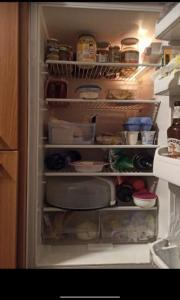Mayonesa: (77, 35, 96, 66)
